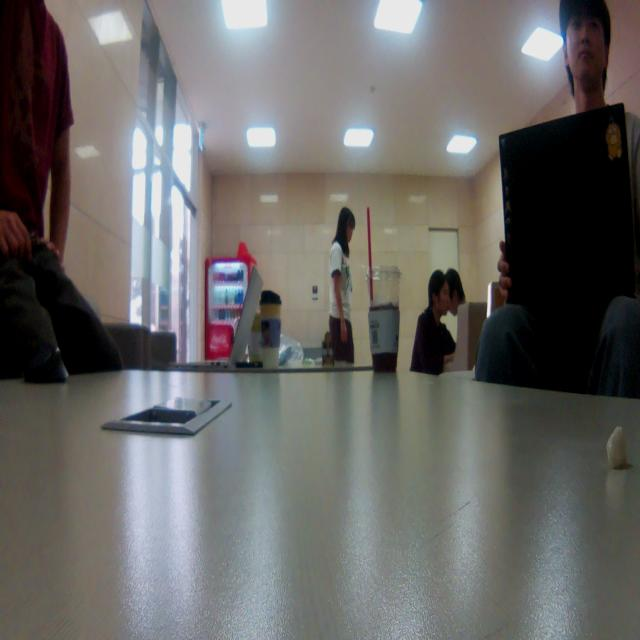target: (322, 328, 336, 372)
